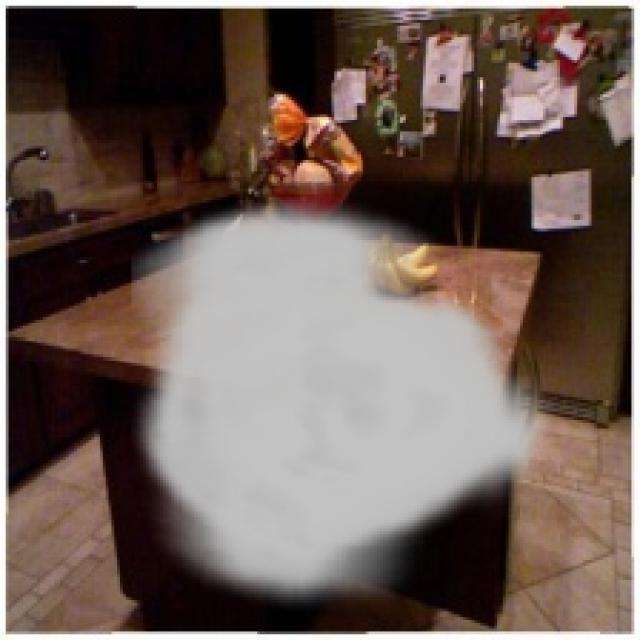smoke: (132, 197, 554, 614)
